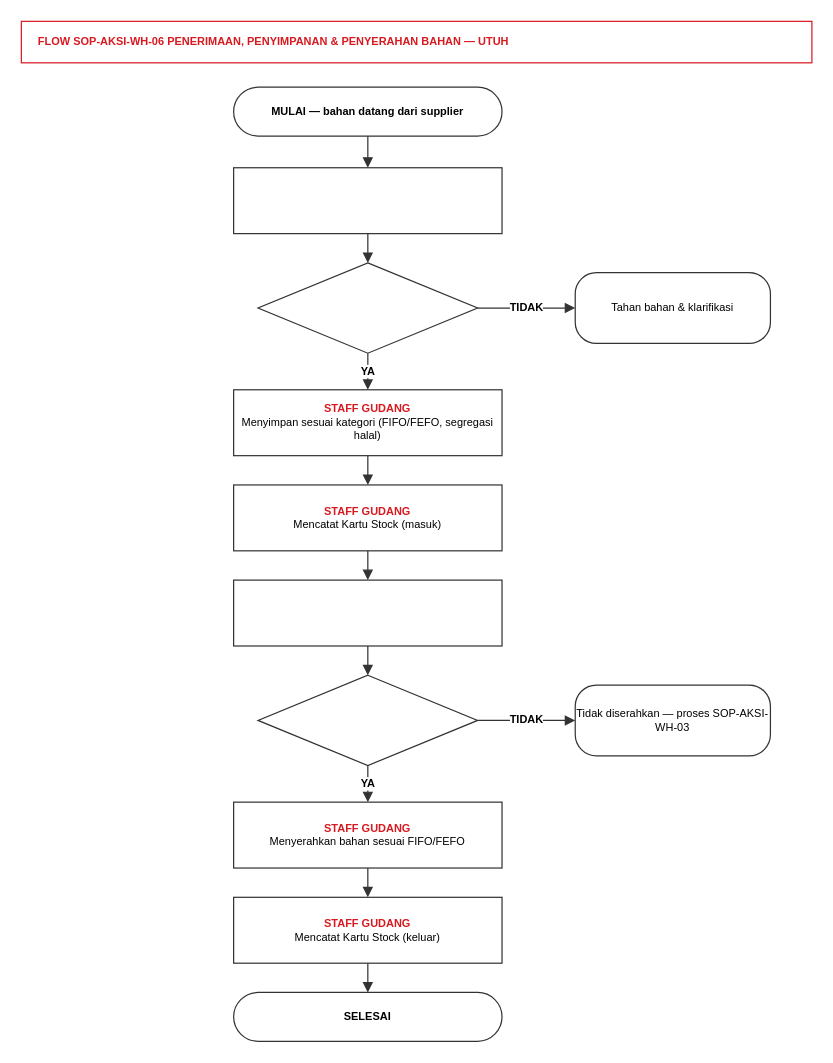
This 833x1063 diagram has some shape labels left out. The box of each missing label's shape, as (x1, y1, x2, y2) in pixels:
BAGIAN PRODUKSI Mengajukan Bukti Permintaan Bahan/Kemasan: (232, 579, 502, 646)
Bahan frozen: suhu sesuai?: (257, 262, 478, 353)
Layak (tidak expired, halal pass)?: (257, 674, 478, 766)
STAFF GUDANG Memverifikasi jumlah & label vs Surat Jalan: (232, 167, 502, 234)
